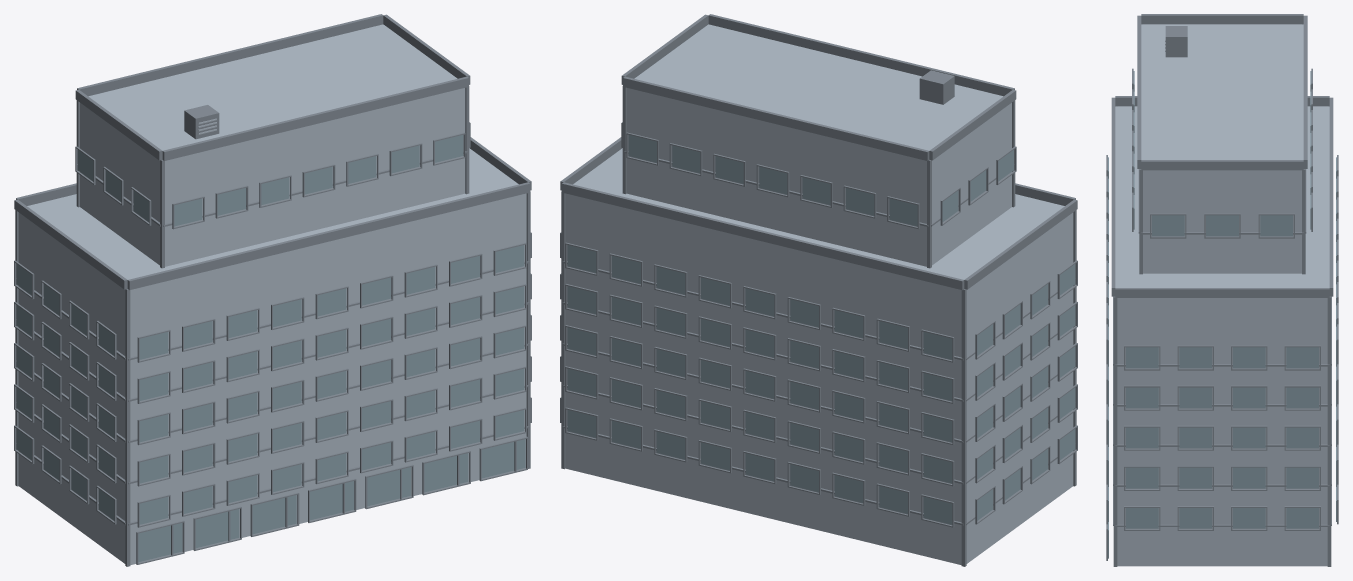
The model's file is lot_4x2.glb.
3 renders of one model, left to right at view 1: azimuth 30°, elevation 25°; view 2: azimuth 150°, elevation 25°; view 3: azimuth 270°, elevation 25°, orthographic. The views are drawn at different scales.
Parts seen in each view (by area): view 1: lot_4x2; view 2: lot_4x2; view 3: lot_4x2.
Boxes of the visible parts, x1,y1,x2,y2 form: lot_4x2: (14,14,531,566); lot_4x2: (560,14,1077,566); lot_4x2: (1106,14,1338,566).
Bounding box in the file's own units: 31.74 × 29.5 × 15.74.
